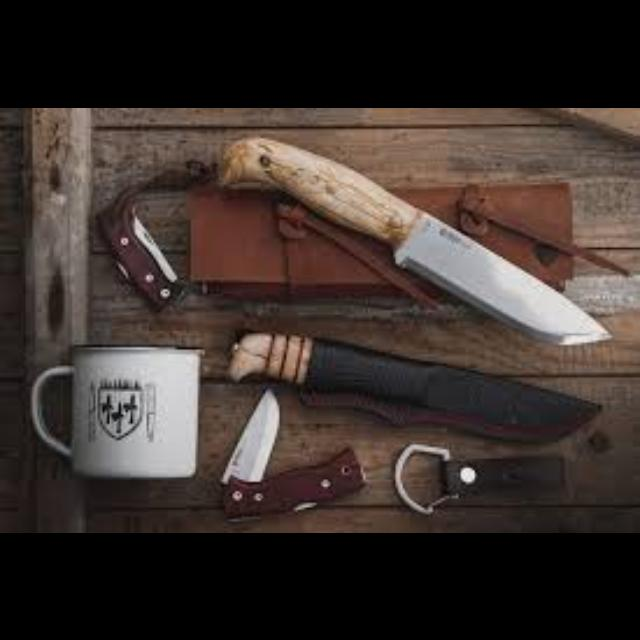Knife: (218, 132, 612, 344), (225, 326, 602, 442)
